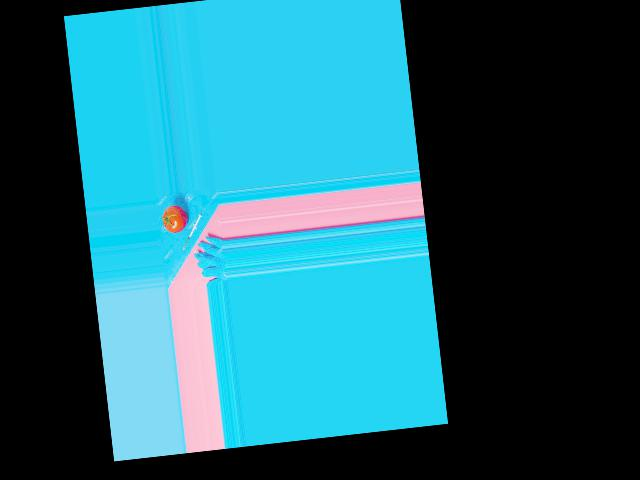tomato: (161, 204, 189, 234)
